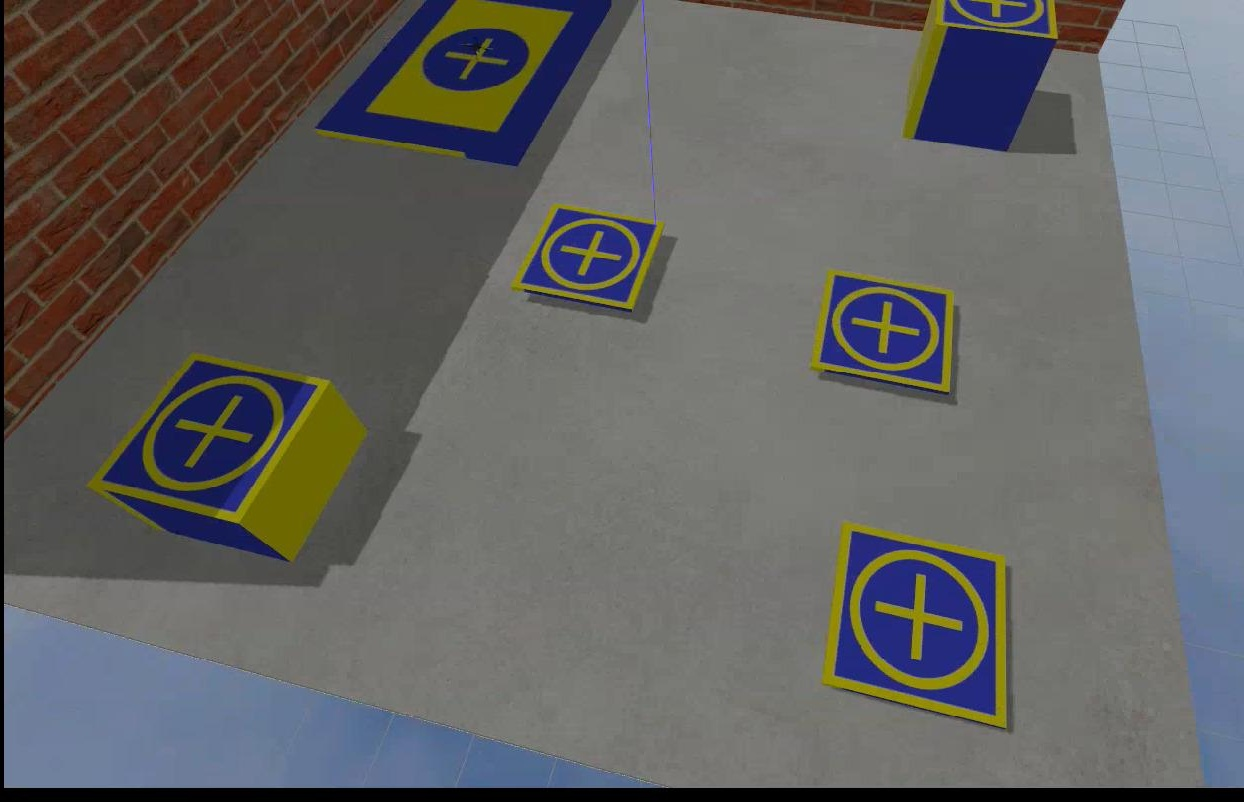large_base: (314, 1, 618, 170)
small_base: (84, 355, 328, 525), (816, 522, 1008, 734), (810, 272, 958, 396), (511, 207, 661, 315), (925, 1, 1057, 38)
